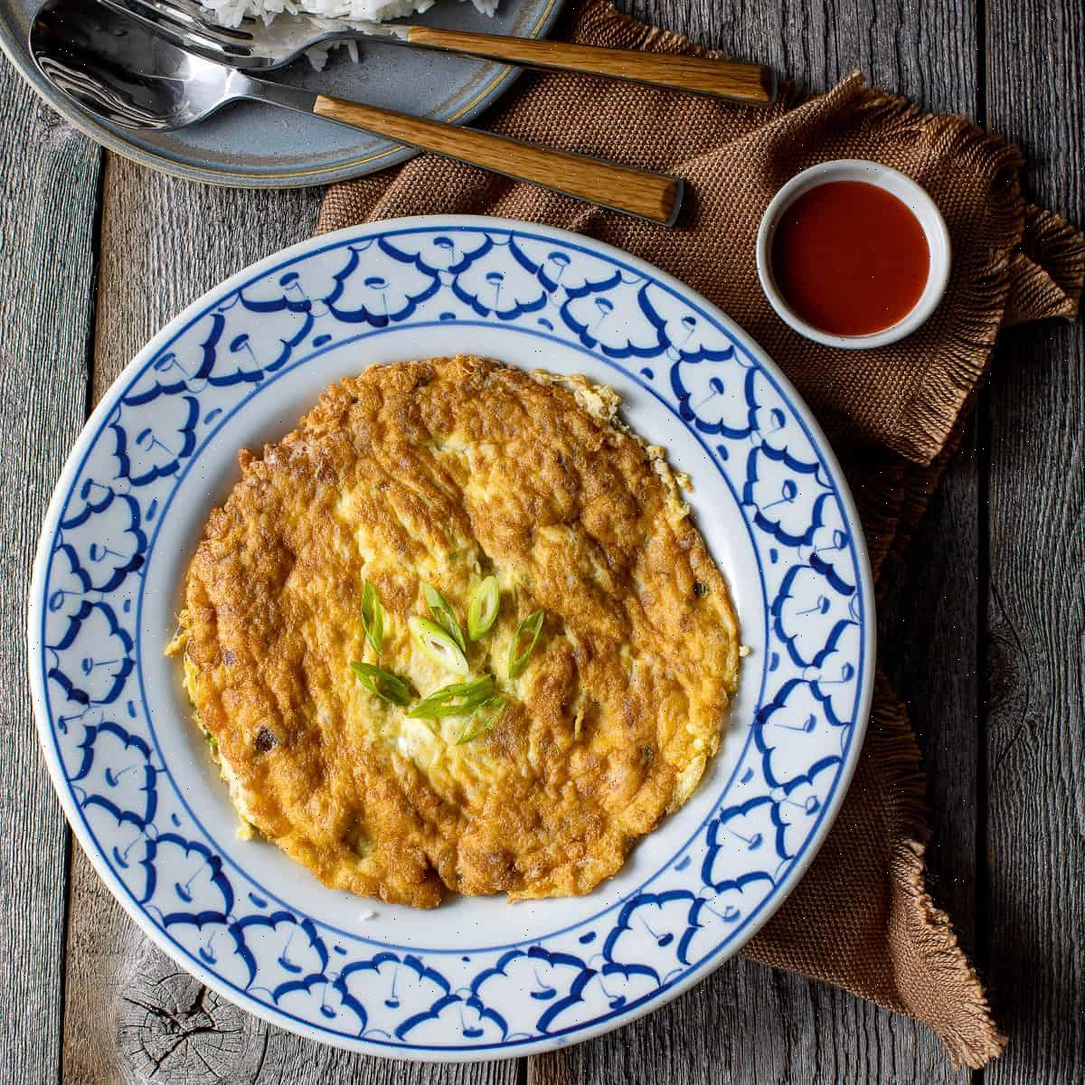omelette: (194, 375, 738, 937)
